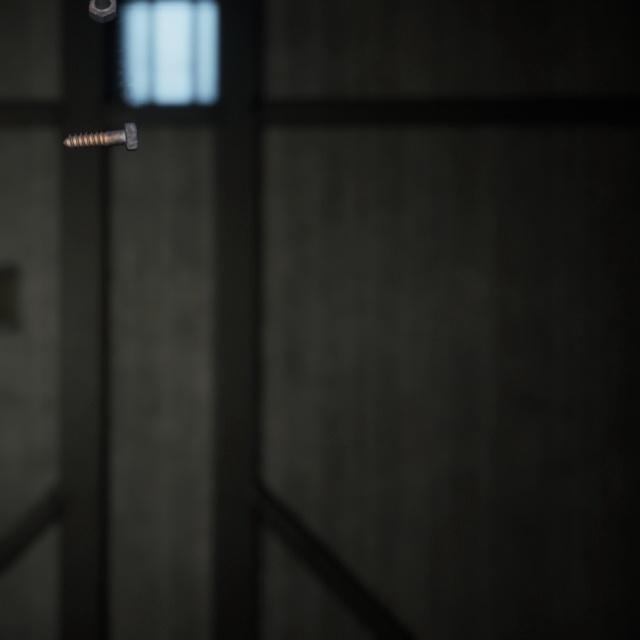bolt: (58, 106, 142, 142), (84, 0, 121, 22)
